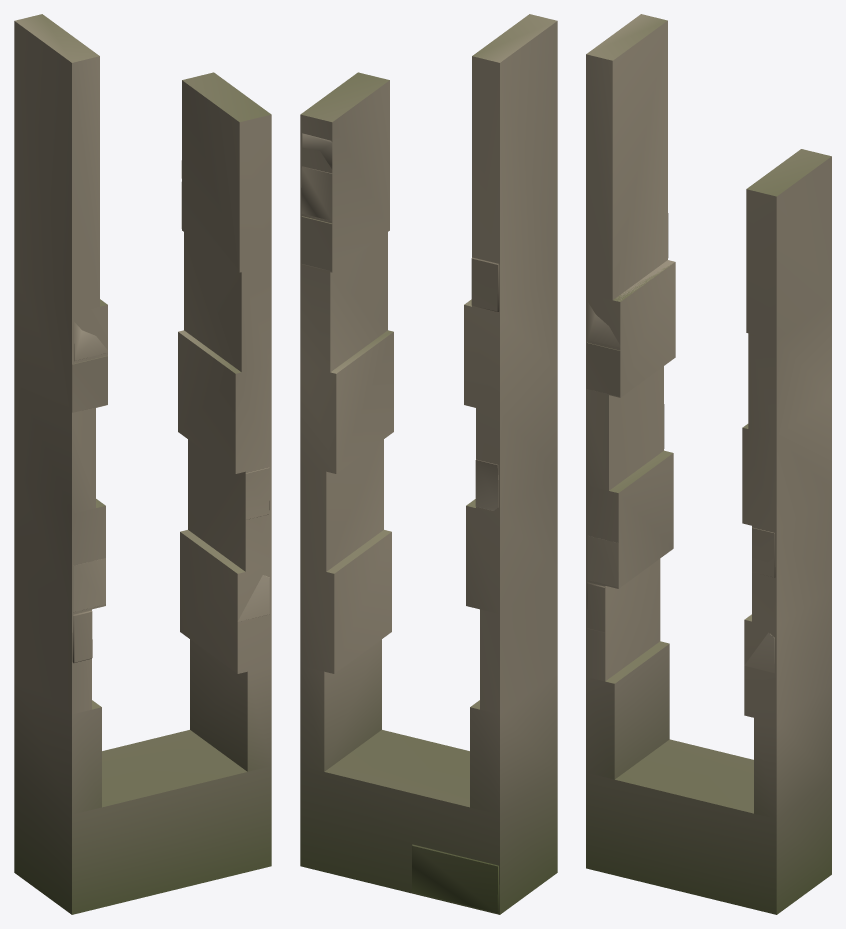
Rendered from theatre_stage_wall_holed.glb.
3 views of the same model, side by side, from view 1: azimuth 30°, elevation 25°; view 2: azimuth 150°, elevation 25°; view 3: azimuth 330°, elevation 25° (orthographic). The views are drawn at different scales.
Visible parts, largest first — view 1: theatre_stage_wall_holed_far, theatre_stage_wall_holed; view 2: theatre_stage_wall_holed_far, theatre_stage_wall_holed; view 3: theatre_stage_wall_holed_far, theatre_stage_wall_holed.
Part boxes in pixels (left/top/right/bottom): theatre_stage_wall_holed_far: left=14, top=14, right=271, bottom=914; theatre_stage_wall_holed: left=72, top=160, right=269, bottom=663; theatre_stage_wall_holed_far: left=300, top=14, right=557, bottom=914; theatre_stage_wall_holed: left=301, top=133, right=499, bottom=913; theatre_stage_wall_holed_far: left=586, top=14, right=831, bottom=914; theatre_stage_wall_holed: left=586, top=213, right=775, bottom=673.
Bounding box in the file's own units: 10 × 40.8 × 5.1.
